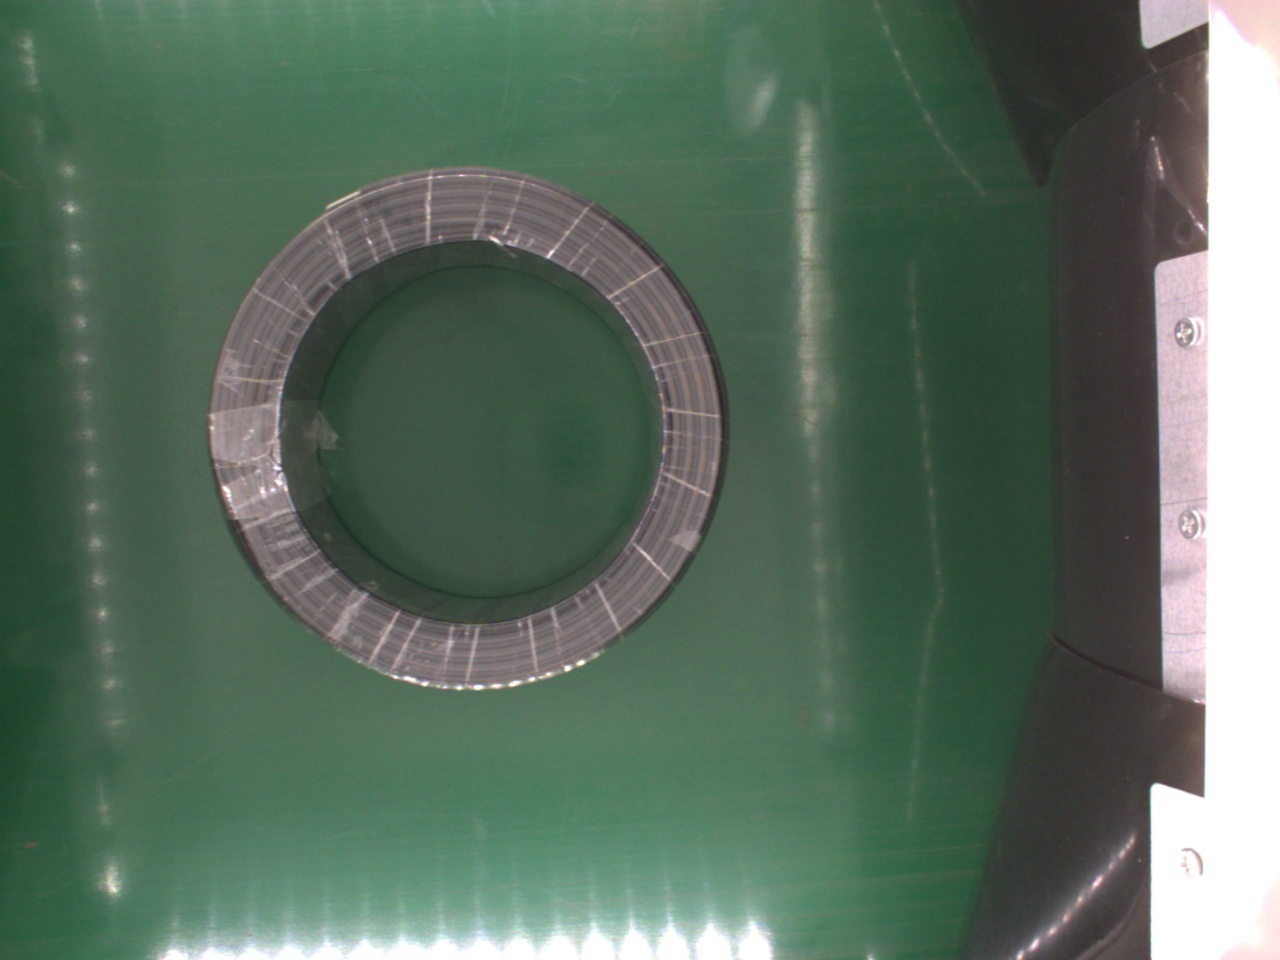black: (212, 169, 727, 695)
